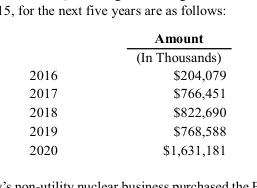table: (28, 29, 225, 156)
table column: (96, 29, 225, 156), (28, 29, 96, 156)
table column header: (28, 29, 225, 65)
table row: (28, 29, 225, 65), (28, 83, 225, 102), (28, 120, 225, 139), (28, 65, 225, 83), (28, 102, 225, 120), (28, 139, 225, 156)
